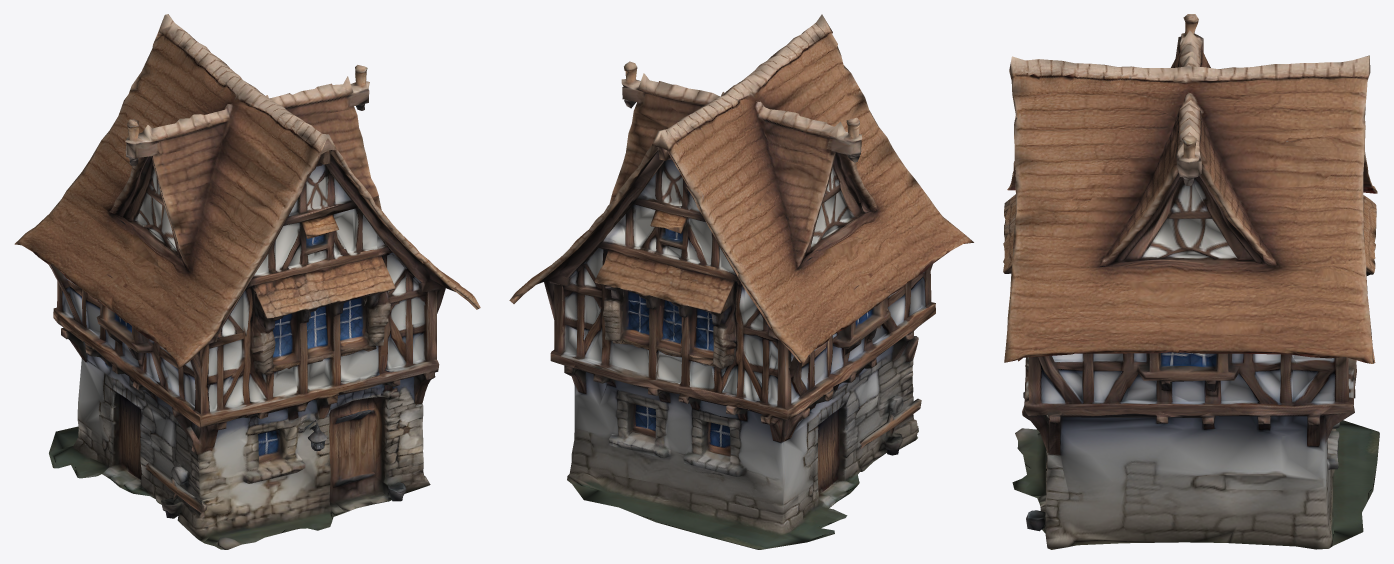
The picture shows the model from 3 angles, left to right: view 1: azimuth 30°, elevation 25°; view 2: azimuth 150°, elevation 25°; view 3: azimuth 270°, elevation 25°; orthographic projection. The views are drawn at different scales.
Visible parts, largest first — view 1: tripo_node_5262082c-257c-4962-8d13-bf9284467f3f_0; view 2: tripo_node_5262082c-257c-4962-8d13-bf9284467f3f_0; view 3: tripo_node_5262082c-257c-4962-8d13-bf9284467f3f_0.
Boxes of the visible parts, x1,y1,x2,y2 form: tripo_node_5262082c-257c-4962-8d13-bf9284467f3f_0: (14,14,480,549); tripo_node_5262082c-257c-4962-8d13-bf9284467f3f_0: (509,14,973,549); tripo_node_5262082c-257c-4962-8d13-bf9284467f3f_0: (1003,14,1379,549).
Size of the model in its own units: 0.7869 by 0.9784 by 0.7703.
1 material, 1 textured.
